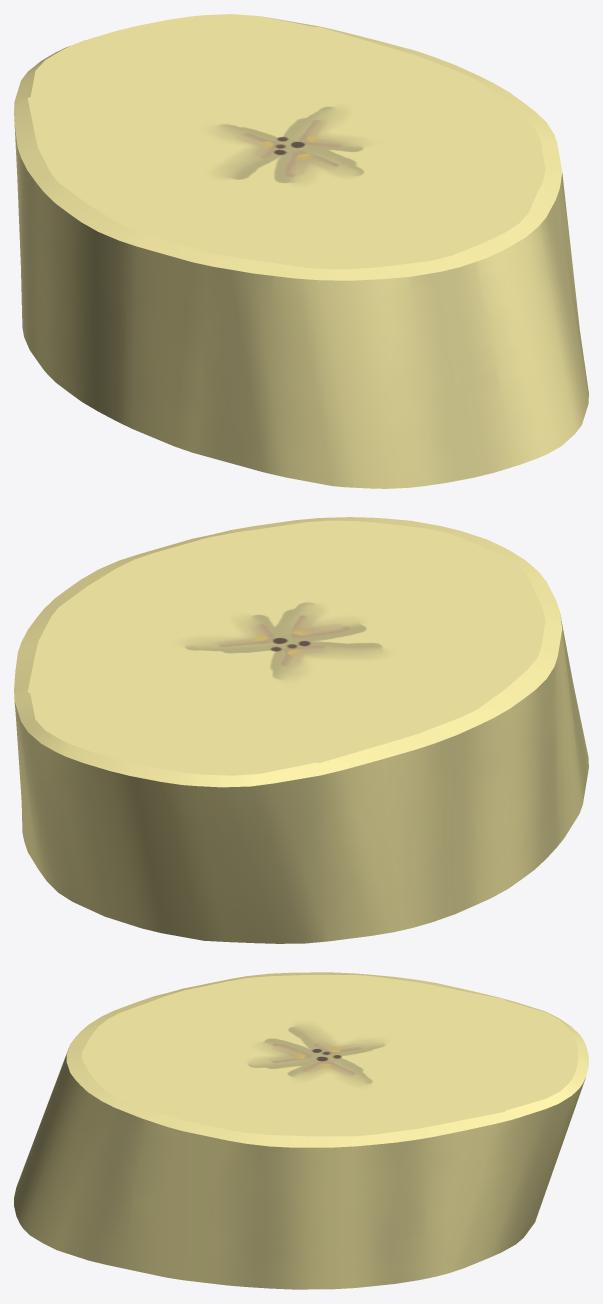
Rendered from banana.fbx.
3 renders of one model, top to bottom at view 1: azimuth 30°, elevation 25°; view 2: azimuth 150°, elevation 25°; view 3: azimuth 270°, elevation 25°, orthographic. The views are drawn at different scales.
Parts seen in each view (by area): view 1: pCube1; view 2: pCube1; view 3: pCube1.
Boxes of the visible parts, bbox=[...] form: pCube1: bbox=[14, 14, 588, 488]; pCube1: bbox=[14, 517, 588, 943]; pCube1: bbox=[14, 972, 588, 1289].
Size of the model in its own units: 11.69 by 4.67 by 16.22.
